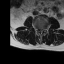CCS_normal: (41, 27, 42, 36)
LFS_severe_stenosis: (44, 27, 45, 31)
LLS_stenosis: (42, 27, 44, 32)
RFS_severe_stenosis: (37, 26, 39, 30)
RLS_severe_stenosis: (39, 27, 41, 33)
